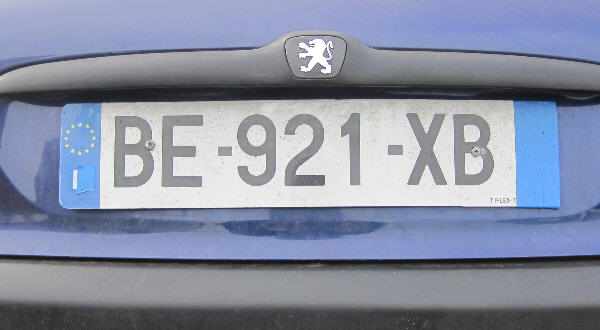license_plate: (58, 99, 561, 212)
